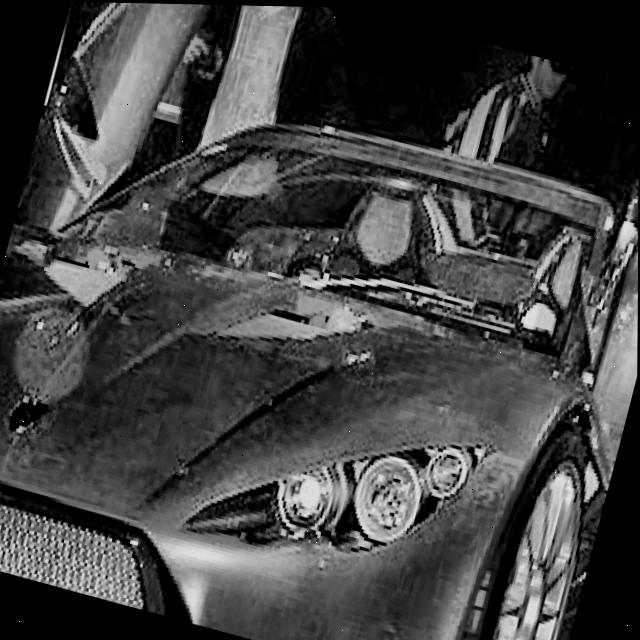light_vehicle: (0, 34, 640, 640)
